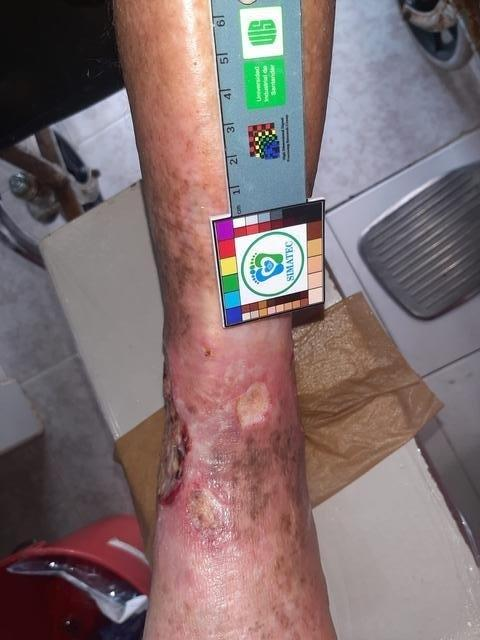wound: (156, 343, 193, 511), (186, 482, 235, 543), (234, 377, 271, 432)
